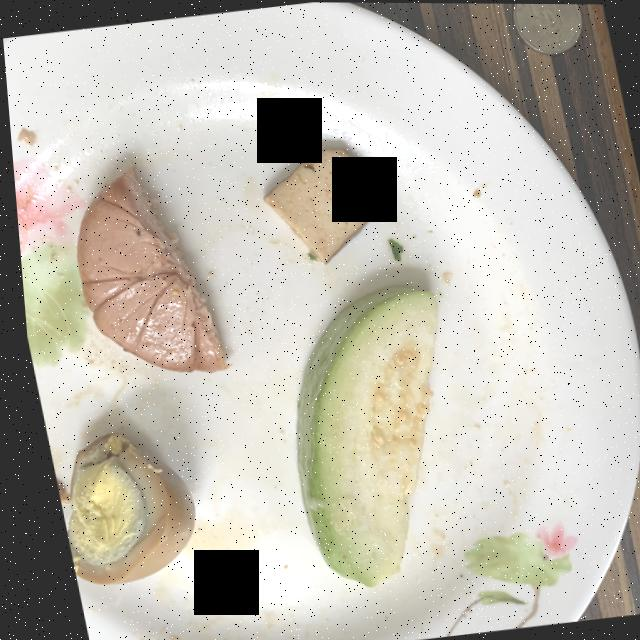Spam: (72, 166, 220, 371)
coin: (512, 3, 581, 52)
firm tofu: (260, 147, 377, 261)
guava -sliced-: (288, 284, 432, 585)
soy egg: (58, 431, 186, 583)
